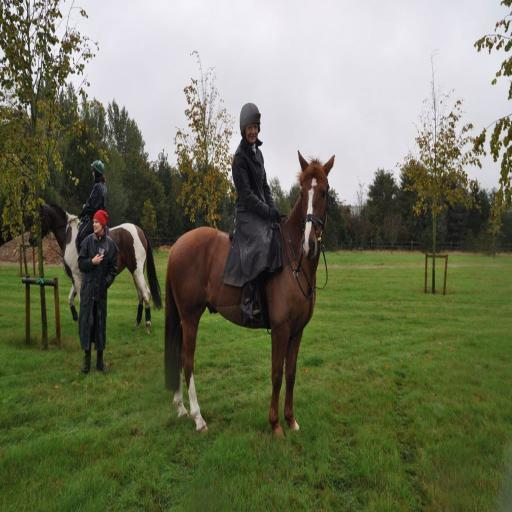horse: (164, 146, 335, 442), (28, 198, 162, 336)
